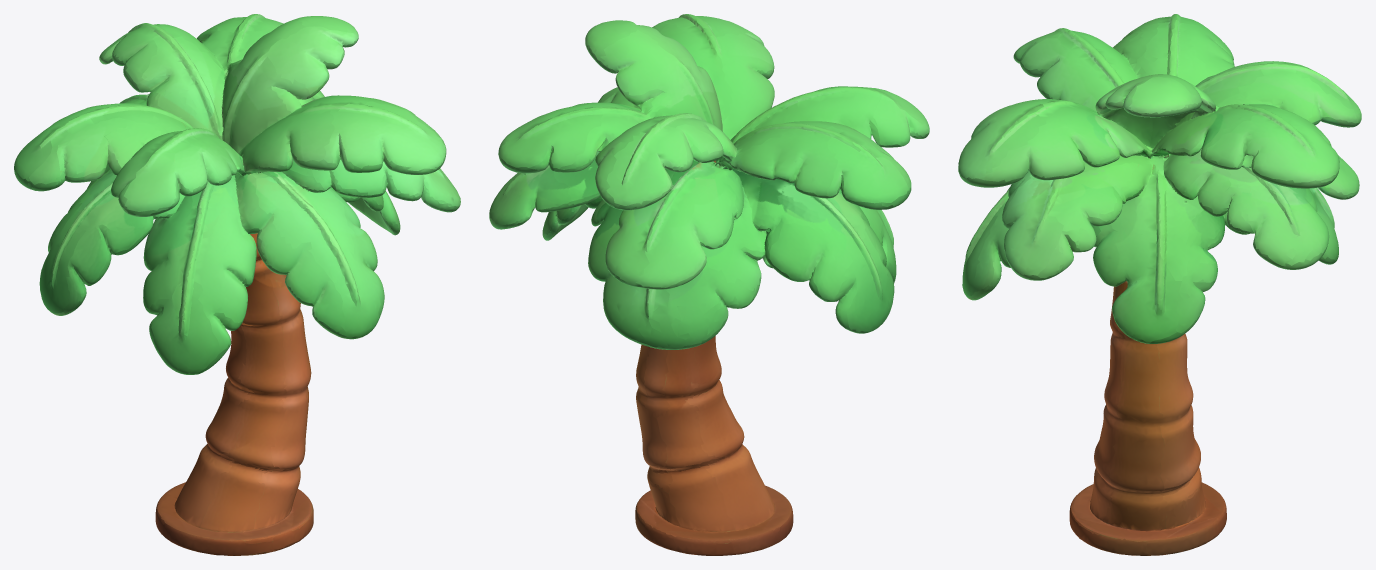
Rendered from nat_tree_palm_01.glb.
3 renders of one model, left to right at view 1: azimuth 30°, elevation 25°; view 2: azimuth 150°, elevation 25°; view 3: azimuth 270°, elevation 25°, orthographic.
Visible parts, largest first — view 1: geometry_0; view 2: geometry_0; view 3: geometry_0.
Boxes of the visible parts, x1,y1,x2,y2 form: geometry_0: (14,14,460,555); geometry_0: (489,14,929,555); geometry_0: (958,14,1361,555).
Bounding box in the file's own units: 0.203 × 0.25 × 0.1892.
1 material, 1 textured.
